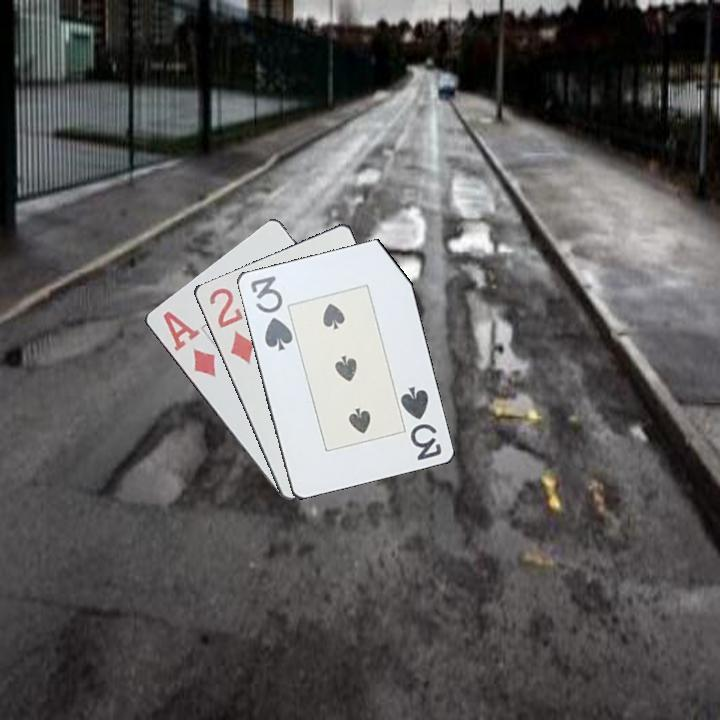2d: (204, 284, 257, 367)
3s: (247, 272, 295, 354), (396, 383, 444, 463)
Ad: (159, 307, 220, 380)
